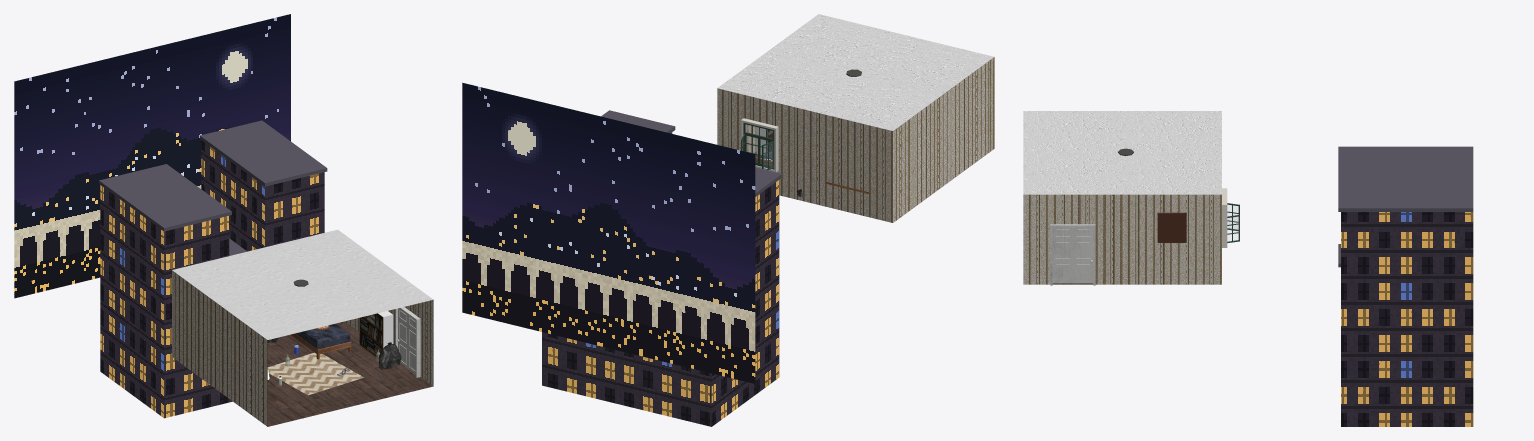
Rendered from room.glb.
3 renders of one model, left to right at view 1: azimuth 30°, elevation 25°; view 2: azimuth 150°, elevation 25°; view 3: azimuth 270°, elevation 25°, orthographic. The views are drawn at different scales.
Parts seen in each view (by area): view 1: City, Wall_left, Wall_left.001, Ceiling, Ceiling.002, Ceiling.001, Ceiling.003, Floor.002, Carpet, Floor, Hotspot_door, Floor.003 (+4 smaller); view 2: City, Wall_back_left, Wall_left, Wall_left.001, Wall_back_window, Ceiling, Ceiling.002, Ceiling.001, Ceiling.003, Window; view 3: City, Wall_right, Wall_right_door, Ceiling.002, Ceiling, Ceiling.003, Ceiling.001, Hotspot_door, Painting, Sashes_open.
Boxes of the visible parts, box(x1,y1,x2,y2) form: City: box(14, 14, 327, 418); Wall_left: box(219, 305, 267, 426); Wall_left.001: box(172, 270, 219, 391); Ceiling: box(220, 286, 349, 339); Ceiling.002: box(305, 264, 432, 319); Ceiling.001: box(172, 250, 296, 304); Ceiling.003: box(255, 229, 384, 283); Floor.002: box(327, 354, 433, 406); Carpet: box(267, 352, 363, 395); Floor: box(267, 378, 350, 426); Hotspot_door: box(395, 307, 420, 377); Floor.003: box(267, 321, 372, 362); City: box(462, 82, 782, 426); Wall_back_left: box(805, 109, 892, 222); Wall_left: box(943, 57, 994, 185); Wall_left.001: box(893, 94, 943, 222); Wall_back_window: box(717, 88, 804, 201); Ceiling: box(859, 35, 993, 93); Ceiling.002: box(768, 14, 906, 70); Ceiling.001: box(805, 74, 943, 130); Ceiling.003: box(717, 51, 849, 109); Window: box(741, 118, 778, 172); City: box(1338, 146, 1473, 426); Wall_right: box(1122, 194, 1221, 284); Wall_right_door: box(1023, 194, 1122, 284); Ceiling.002: box(1023, 153, 1122, 194); Ceiling: box(1023, 111, 1122, 152); Ceiling.003: box(1122, 153, 1221, 194); Ceiling.001: box(1122, 111, 1221, 152); Hotspot_door: box(1050, 224, 1095, 285); Painting: box(1157, 212, 1186, 242); Sashes_open: box(1227, 203, 1239, 242).
Size of the model in its own units: 10 by 10 by 15.
72 materials, 59 textured.
